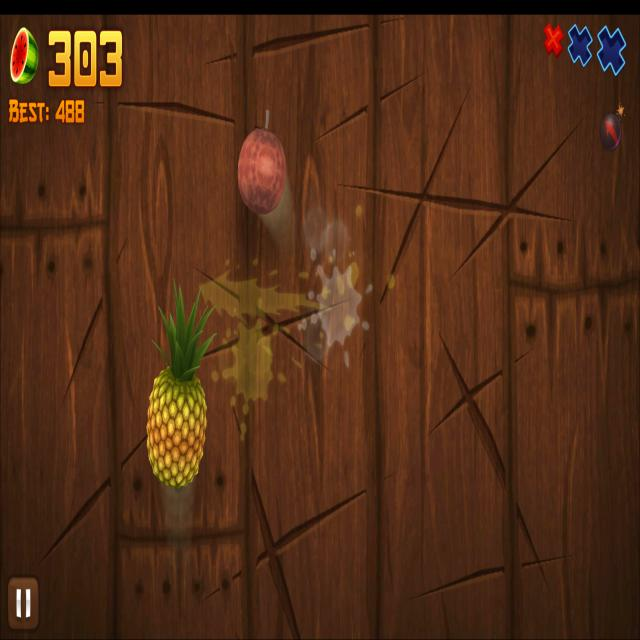fruit: (146, 365, 208, 489), (236, 128, 286, 215)
